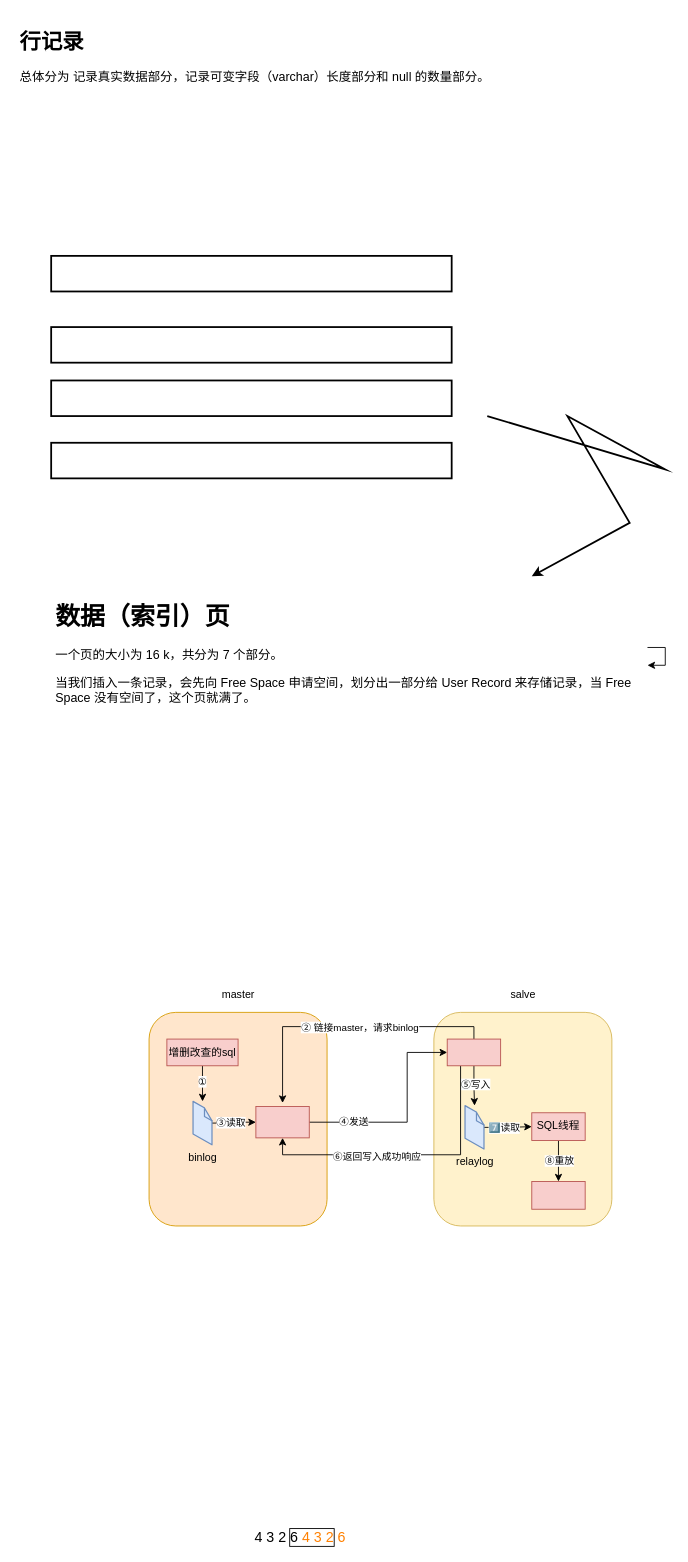
The diagram is 688 pixels wide and 1562 high, and some of its shapes have lost their labels. The centre of each missing label's shape, as x and y in pixels:
"dump线程" belongs at (x=282, y=1122).
"IO线程" belongs at (x=473, y=1052).
"数据" belongs at (x=558, y=1195).
